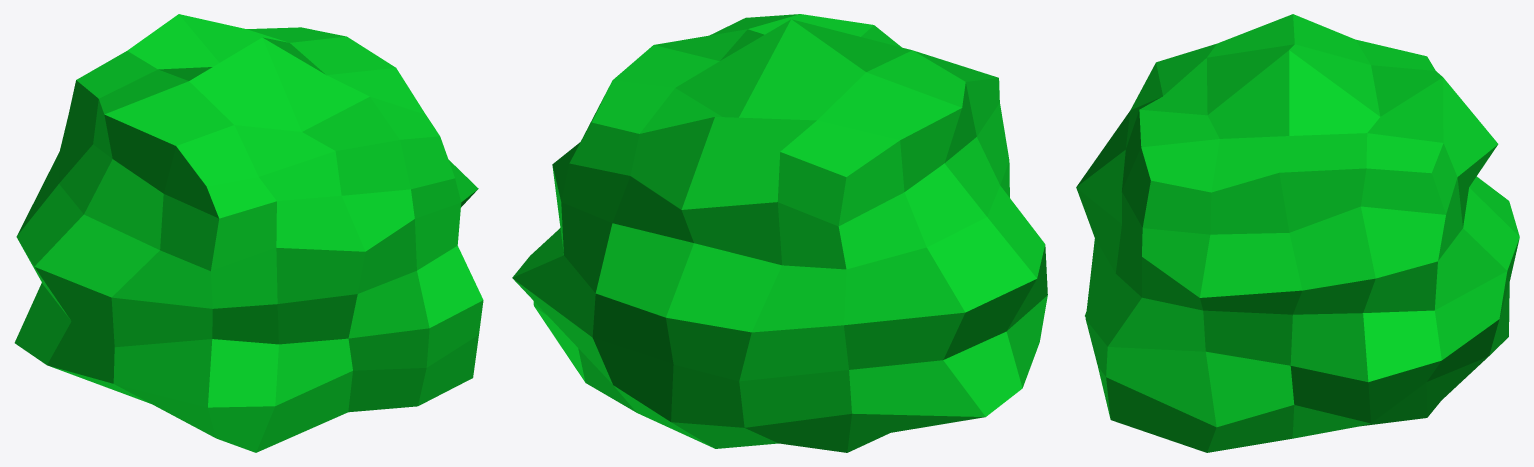
Rendered from roughBush.fbx.
The picture shows the model from 3 angles, left to right: view 1: azimuth 30°, elevation 25°; view 2: azimuth 150°, elevation 25°; view 3: azimuth 270°, elevation 25°; orthographic projection. The views are drawn at different scales.
Visible parts, largest first — view 1: Cube; view 2: Cube; view 3: Cube.
Boxes of the visible parts, x1=… form: Cube: x1=14, y1=14, x2=483, y2=452; Cube: x1=512, y1=14, x2=1047, y2=452; Cube: x1=1076, y1=14, x2=1519, y2=452.
Bounding box in the file's own units: 7.01 × 5.24 × 6.32.
